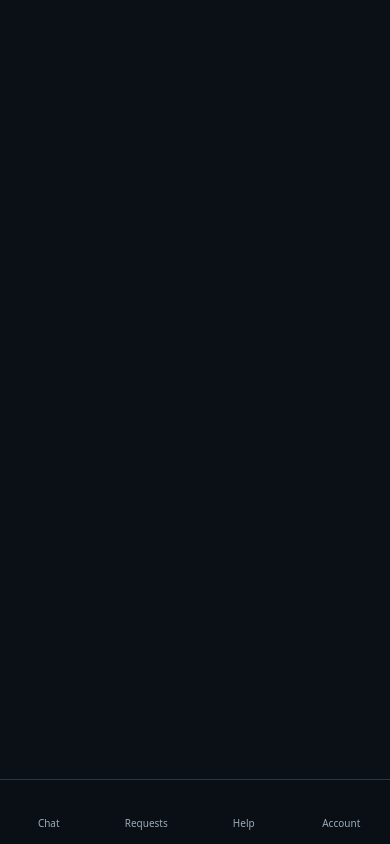
MobileClientAppShell › opens OTP login modal when Account tab is tapped while unauthenticated
Click the button "Account" at {"x": 341, "y": 812}, box [292,780,389,843]
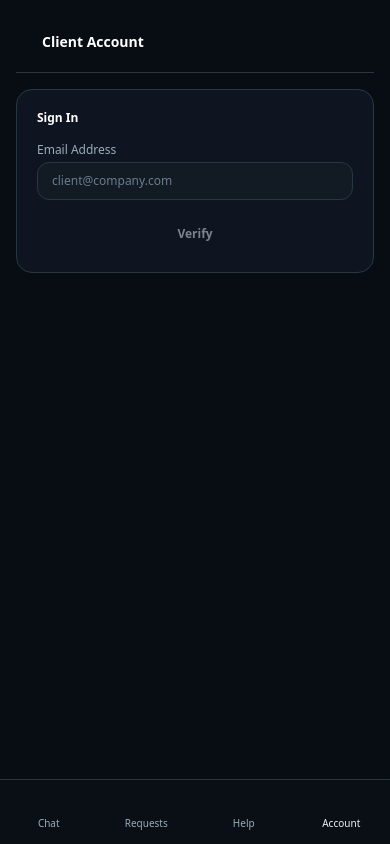
Now the button "Verify" is shown, box [37,216,353,252]
